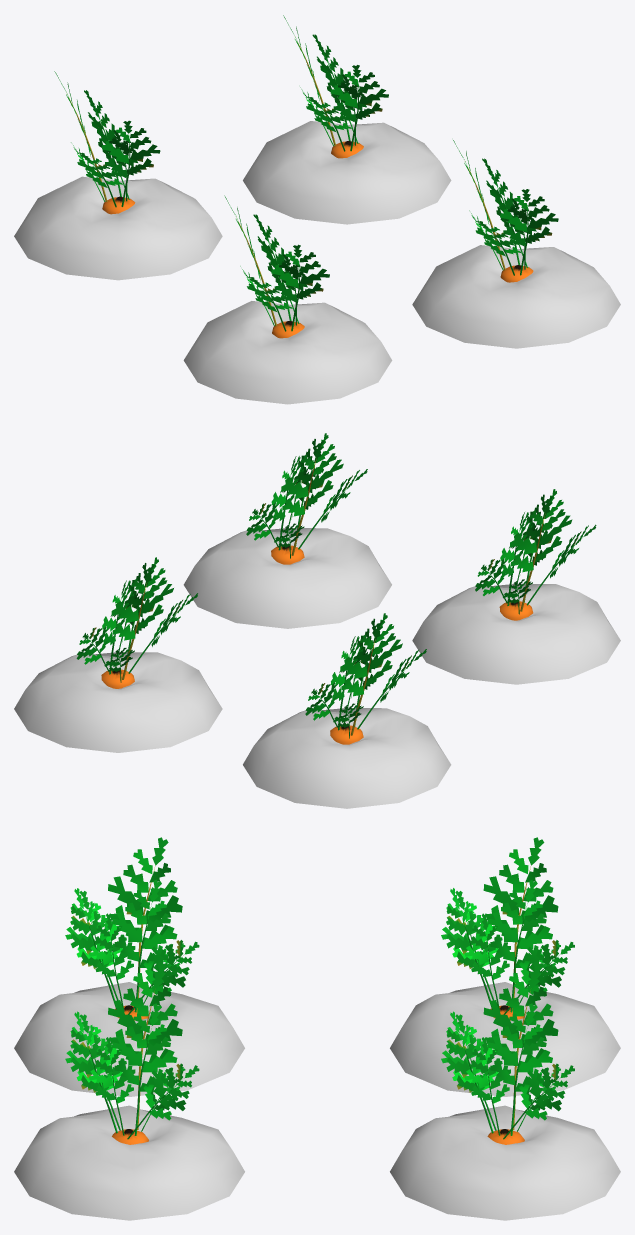
Rendered from Carrot4.fbx.
The picture shows the model from 3 angles, top to bottom: view 1: azimuth 30°, elevation 25°; view 2: azimuth 150°, elevation 25°; view 3: azimuth 270°, elevation 25°; orthographic projection. The views are drawn at different scales.
Visible parts, largest first — view 1: Circle.018, Circle.019; view 2: Circle.018, Circle.019; view 3: Circle.018, Circle.019.
Boxes of the visible parts, x1,y1,x2,y2 form: Circle.018: [14, 121, 620, 404]; Circle.019: [54, 15, 558, 338]; Circle.018: [14, 528, 620, 808]; Circle.019: [76, 433, 596, 744]; Circle.018: [14, 982, 620, 1220]; Circle.019: [65, 837, 574, 1144].
Bounding box in the file's own units: 453 × 176 × 525.
